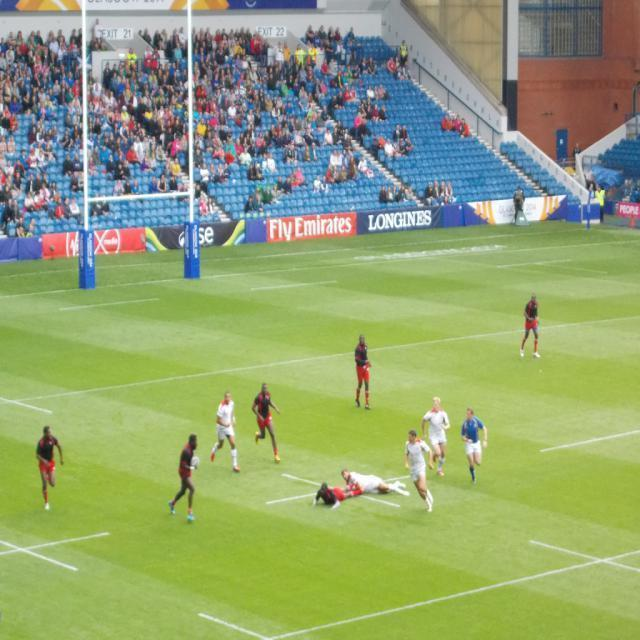ball: (191, 454, 201, 467)
